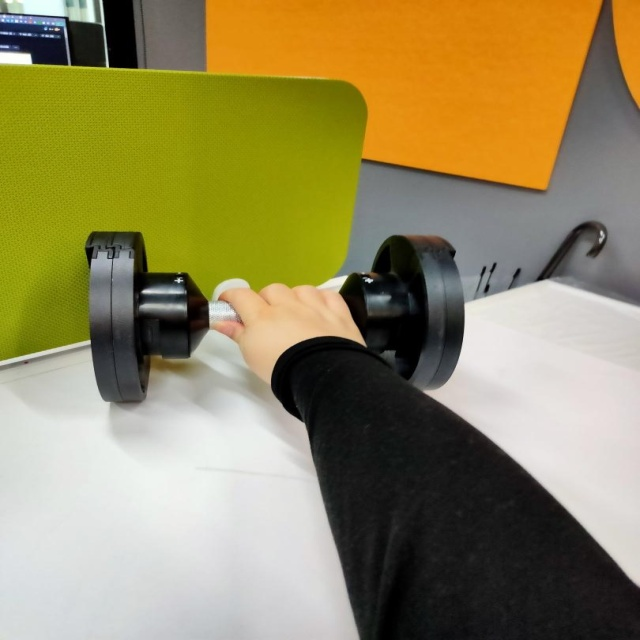03-6kg: (86, 231, 464, 401)
